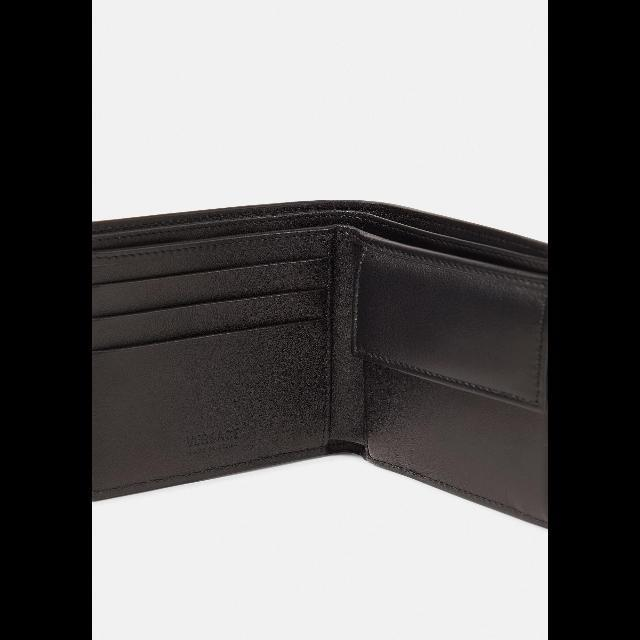wallet: (92, 192, 548, 536)
